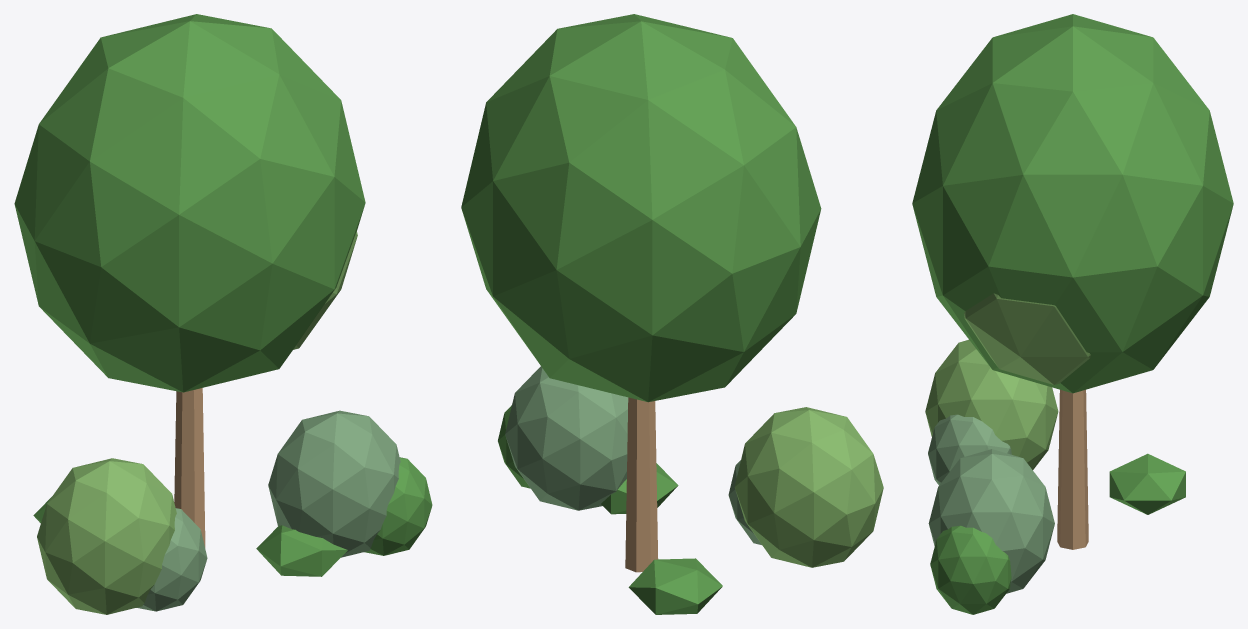
The model's file is deco_tree_cluster_c.glb.
3 views of the same model, side by side, from view 1: azimuth 30°, elevation 25°; view 2: azimuth 150°, elevation 25°; view 3: azimuth 270°, elevation 25° (orthographic). The views are drawn at different scales.
Parts seen in each view (by area): view 1: deco_tree_cluster_c; view 2: deco_tree_cluster_c; view 3: deco_tree_cluster_c.
Boxes of the visible parts, x1,y1,x2,y2 form: deco_tree_cluster_c: (14,14,432,614); deco_tree_cluster_c: (461,14,883,614); deco_tree_cluster_c: (912,14,1233,614).
Size of the model in its own units: 3.35 by 4.57 by 2.58.
1 material, 1 textured.
